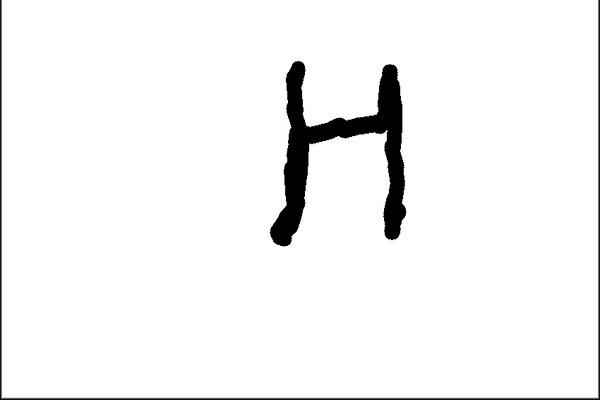H: (267, 54, 411, 248)
